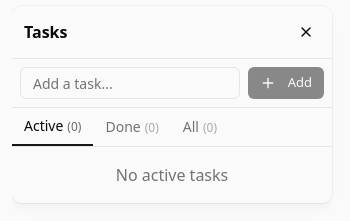
Scenario: TaskPanel › enables add button when input has text
Type "New task" into the field with placeholder "Add a task...".
click(130, 83); type("New task")  # box [20,67,240,99]
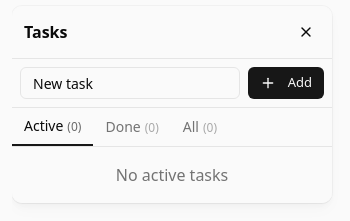
Result: the button "Add" is enabled at [248,67,324,99]
